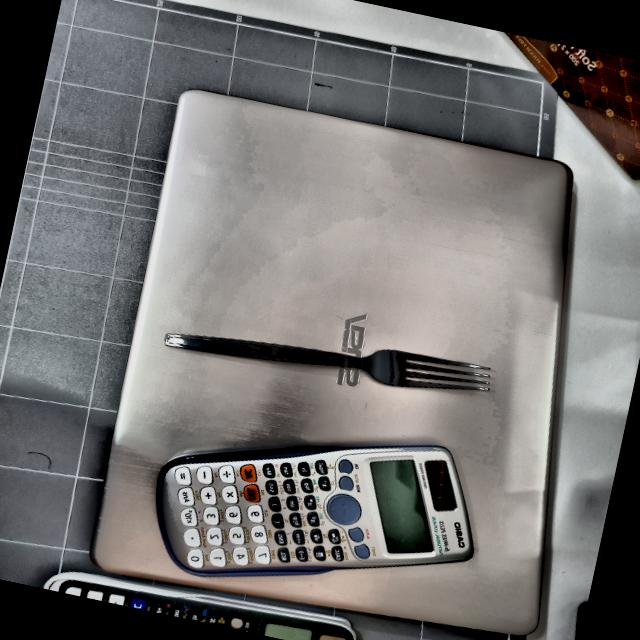plastic utensil: (158, 296, 501, 427)
